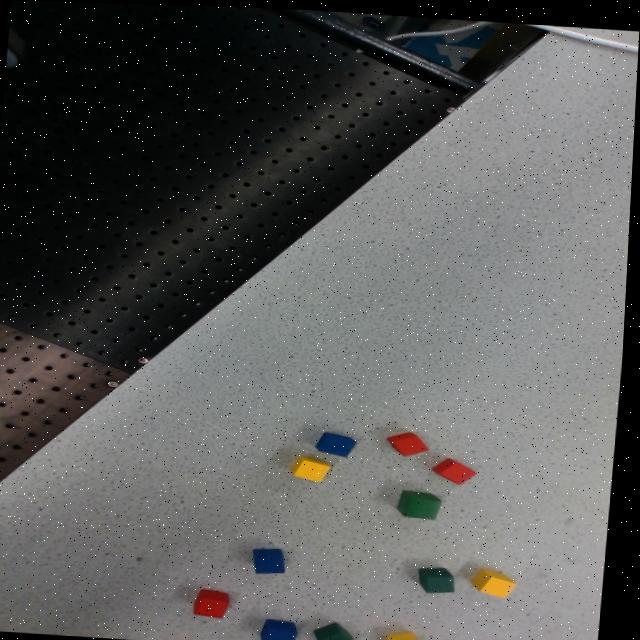blue_cube: (320, 428, 361, 454), (259, 544, 292, 572), (268, 616, 303, 640)
green_cube: (402, 486, 447, 516), (425, 564, 460, 589), (322, 621, 361, 640)
red_cube: (436, 450, 482, 485), (392, 424, 433, 456), (200, 586, 237, 617)
yellow_cube: (476, 558, 523, 600), (296, 452, 335, 480), (393, 628, 426, 640)
